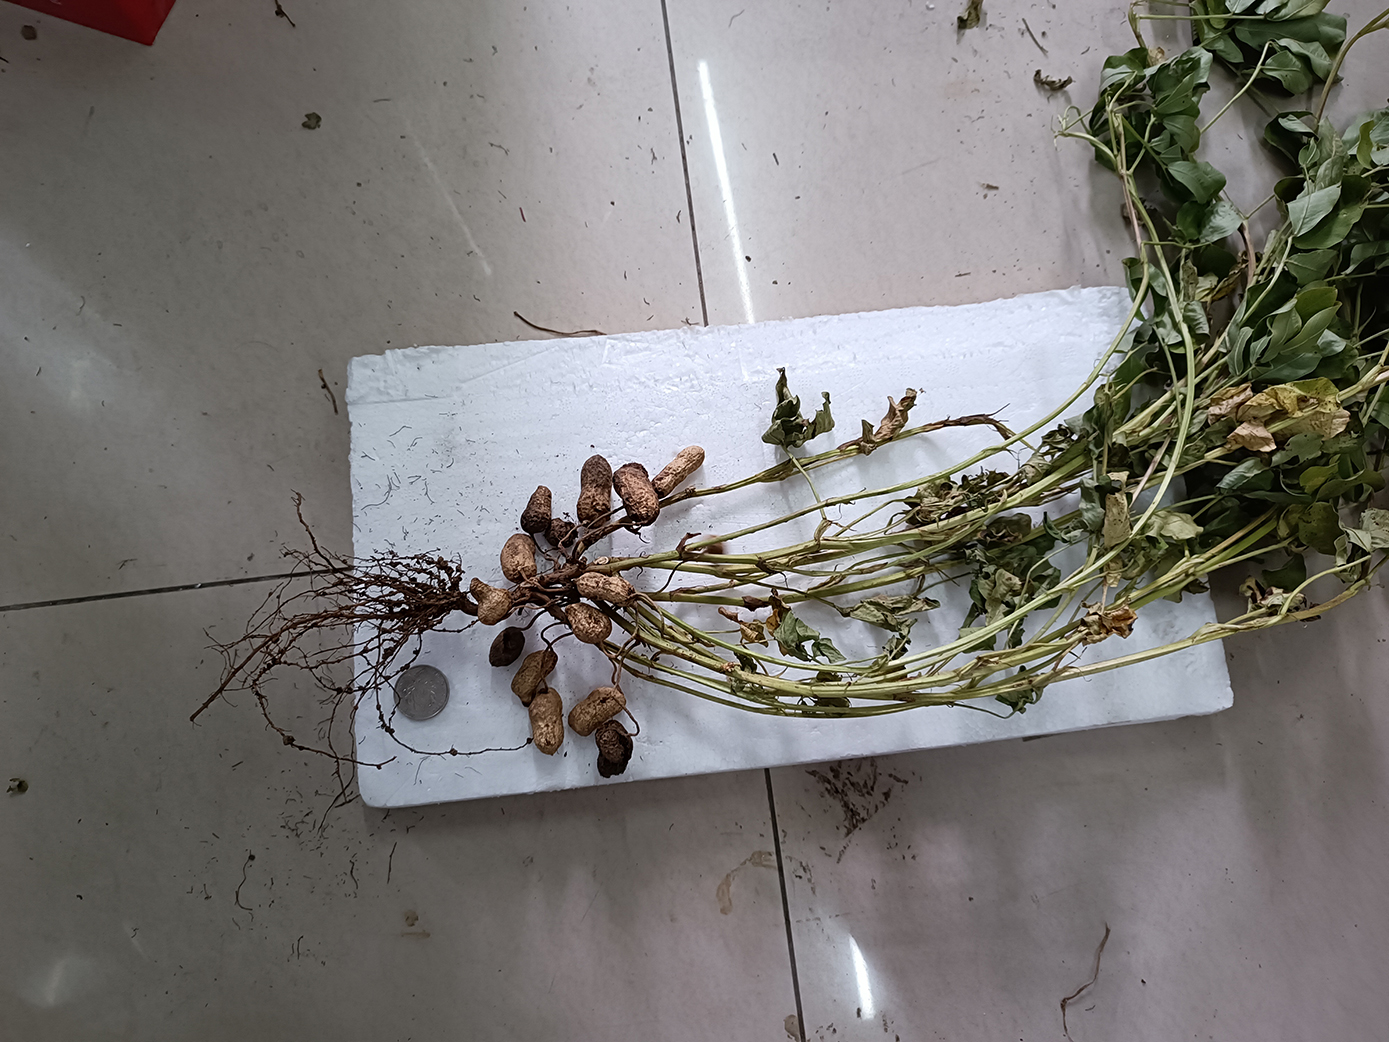h: (568, 687, 626, 736), (511, 649, 557, 707), (653, 445, 704, 498), (526, 688, 564, 755), (470, 577, 511, 626), (576, 572, 635, 606), (564, 603, 612, 644), (500, 533, 539, 583)
l: (613, 463, 660, 526), (576, 454, 612, 529), (595, 719, 634, 778), (520, 485, 552, 534), (489, 626, 526, 668), (546, 518, 578, 547)
